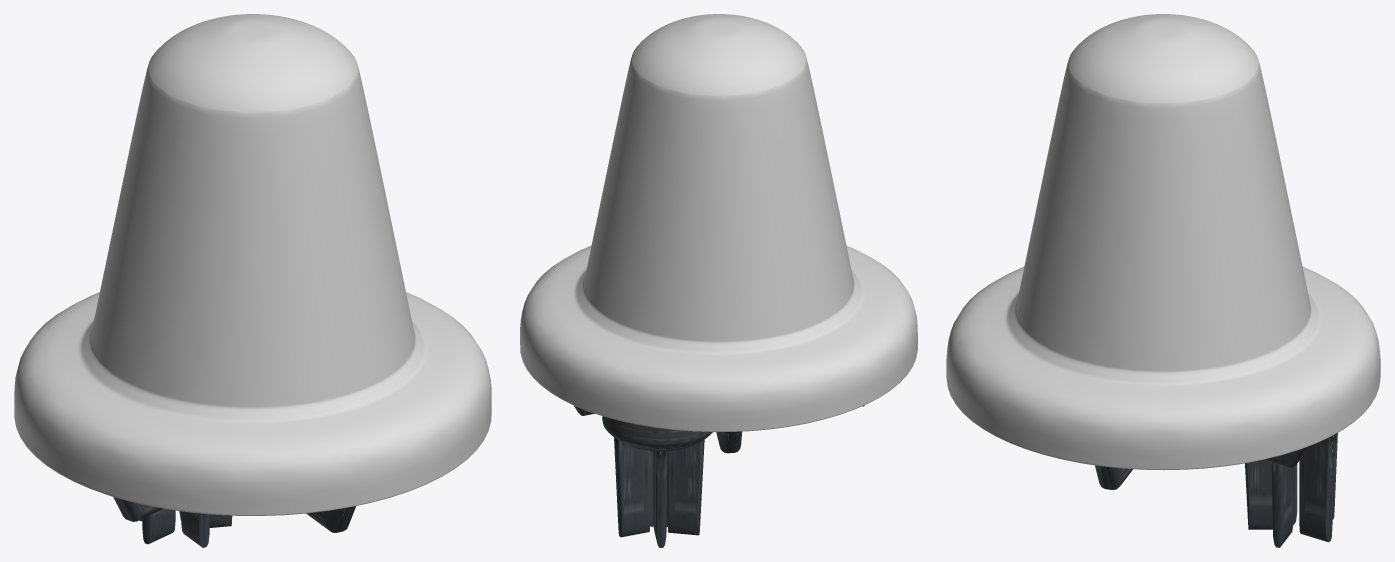
The model's file is tower.glb.
The picture shows the model from 3 angles, left to right: view 1: azimuth 30°, elevation 25°; view 2: azimuth 150°, elevation 25°; view 3: azimuth 270°, elevation 25°; orthographic projection. The views are drawn at different scales.
Parts seen in each view (by area): view 1: 细分曲面, 挤压 4, 挤压 0, 挤压 0.001, 挤压 4.001; view 2: 细分曲面, 挤压 2, 挤压 4, 圆柱体, 挤压 3, 挤压 3.001; view 3: 细分曲面, 挤压 2, 挤压 0, 挤压 1, 挤压 1.001.
Boxes of the visible parts, x1=… form: 细分曲面: x1=14, y1=14, x2=491, y2=515; 挤压 4: x1=142, y1=508, x2=175, y2=544; 挤压 0: x1=181, y1=511, x2=210, y2=547; 挤压 0.001: x1=306, y1=506, x2=356, y2=532; 挤压 4.001: x1=113, y1=497, x2=163, y2=521; 细分曲面: x1=520, y1=14, x2=917, y2=432; 挤压 2: x1=614, y1=437, x2=649, y2=537; 挤压 4: x1=668, y1=439, x2=704, y2=535; 圆柱体: x1=602, y1=416, x2=712, y2=451; 挤压 3: x1=653, y1=450, x2=666, y2=547; 挤压 3.001: x1=716, y1=431, x2=742, y2=453; 细分曲面: x1=946, y1=14, x2=1380, y2=470; 挤压 2: x1=1299, y1=434, x2=1336, y2=542; 挤压 0: x1=1245, y1=460, x2=1272, y2=529; 挤压 1: x1=1271, y1=463, x2=1293, y2=547; 挤压 1.001: x1=1095, y1=465, x2=1132, y2=489.
Size of the model in its own units: 54.67 by 69.53 by 54.67.
2 materials, 1 textured.
